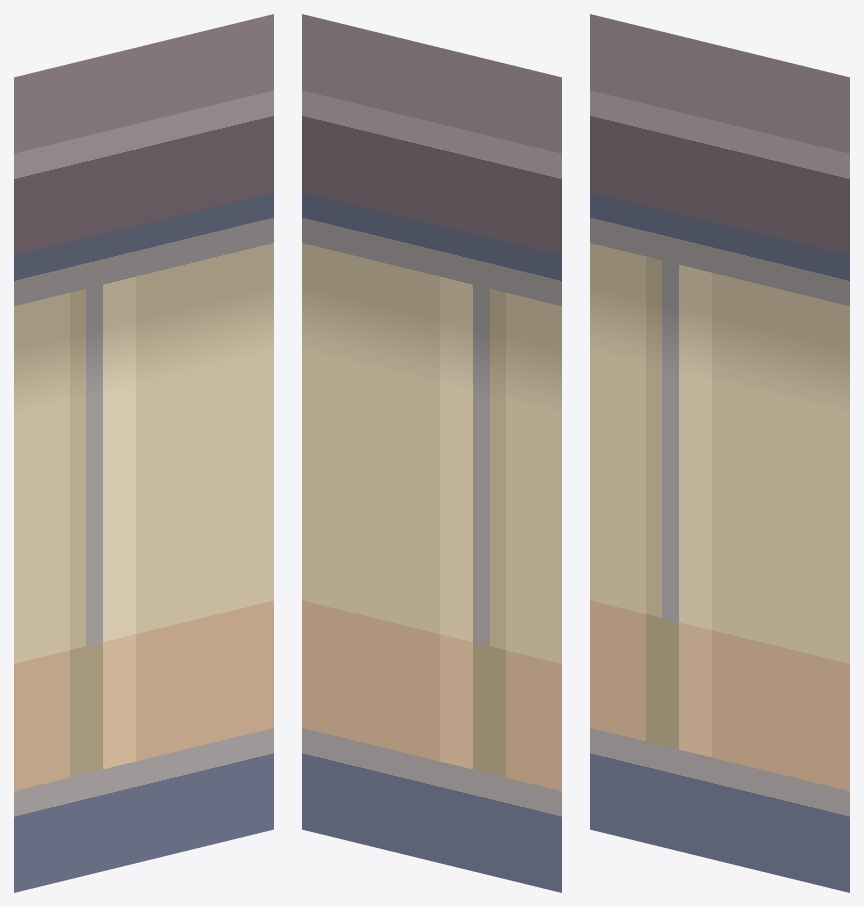
The picture shows the model from 3 angles, left to right: view 1: azimuth 30°, elevation 25°; view 2: azimuth 150°, elevation 25°; view 3: azimuth 330°, elevation 25°; orthographic projection.
Bounding box in the file's own units: 1 × 3 × 0.
Materials: 1 (1 with a texture image).
